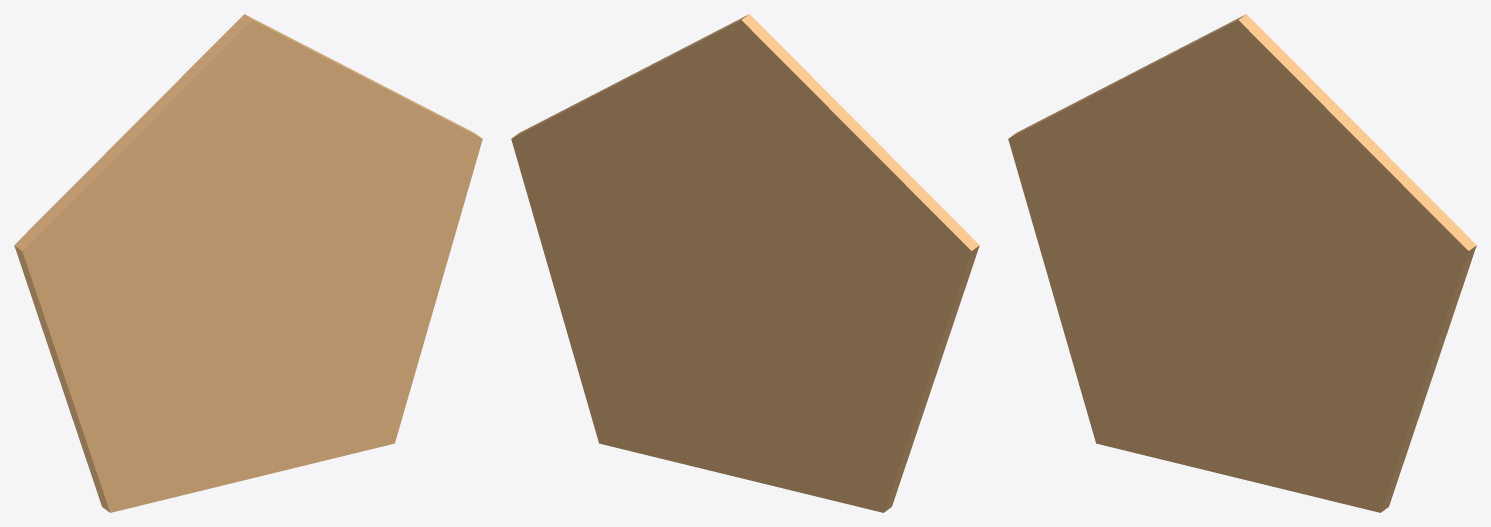
File: pentagono.glb
The picture shows the model from 3 angles, left to right: view 1: azimuth 30°, elevation 25°; view 2: azimuth 150°, elevation 25°; view 3: azimuth 330°, elevation 25°; orthographic projection.
Visible parts, largest first — view 1: pentagono; view 2: pentagono; view 3: pentagono.
Boxes of the visible parts, box(x1,y1,x2,y2) form: pentagono: box(14, 14, 482, 512); pentagono: box(511, 14, 979, 512); pentagono: box(1008, 14, 1476, 512).
Bounding box in the file's own units: 1.62 × 1.54 × 0.05.
